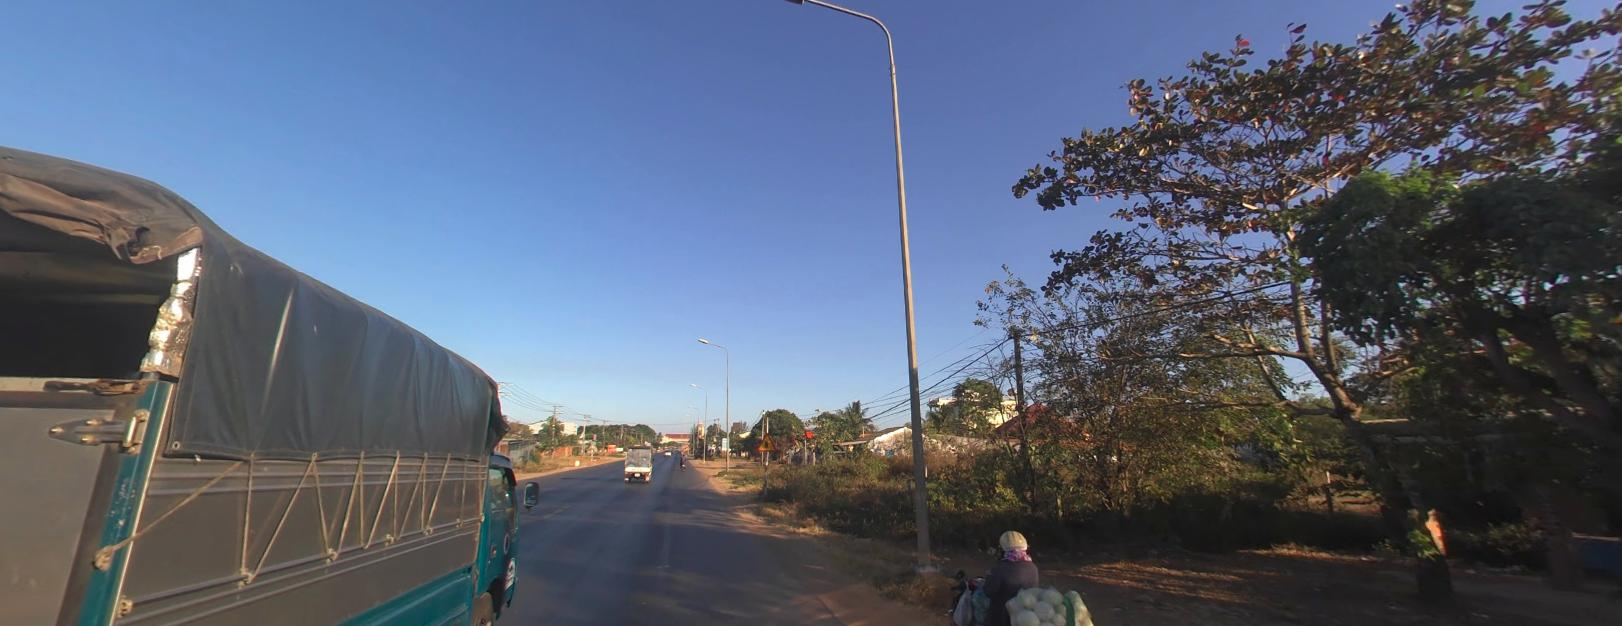Nguy hiem: (757, 431, 776, 450), (757, 433, 776, 450)
